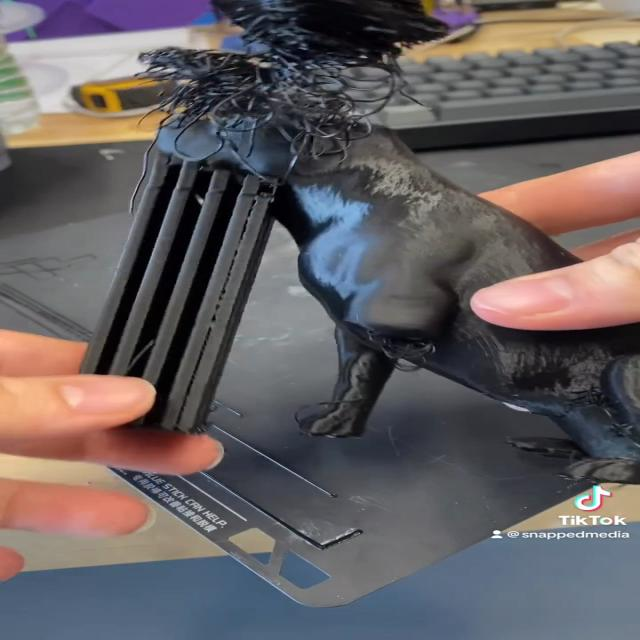spaghetti: (94, 0, 459, 187)
